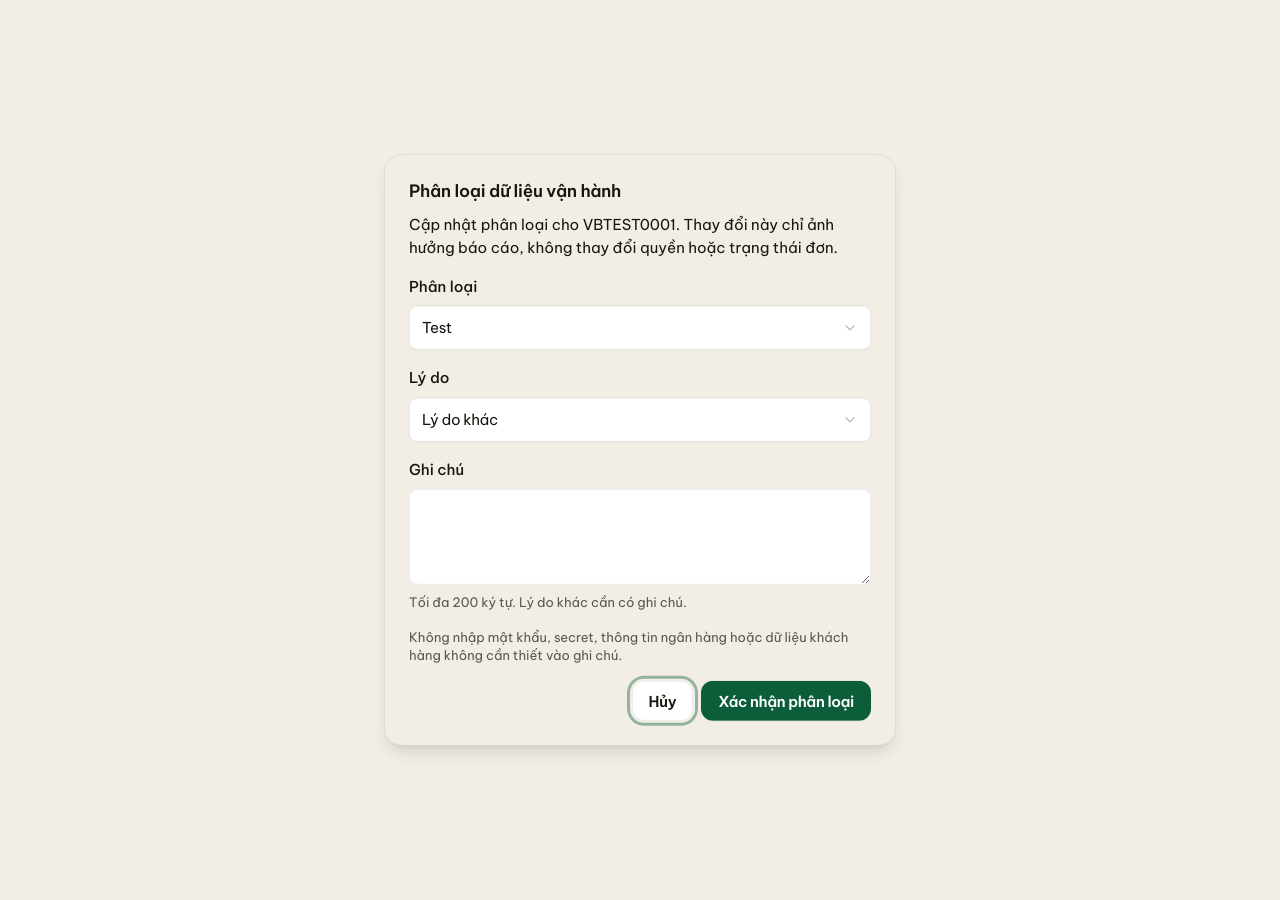
Test: admin operational classification primitives › requires a note for other and announces the validation accessibly
The image size is (1280, 900).
Click the button "Xác nhận phân loại" at (786, 701), box top-left (701, 681), bottom-right (871, 721)
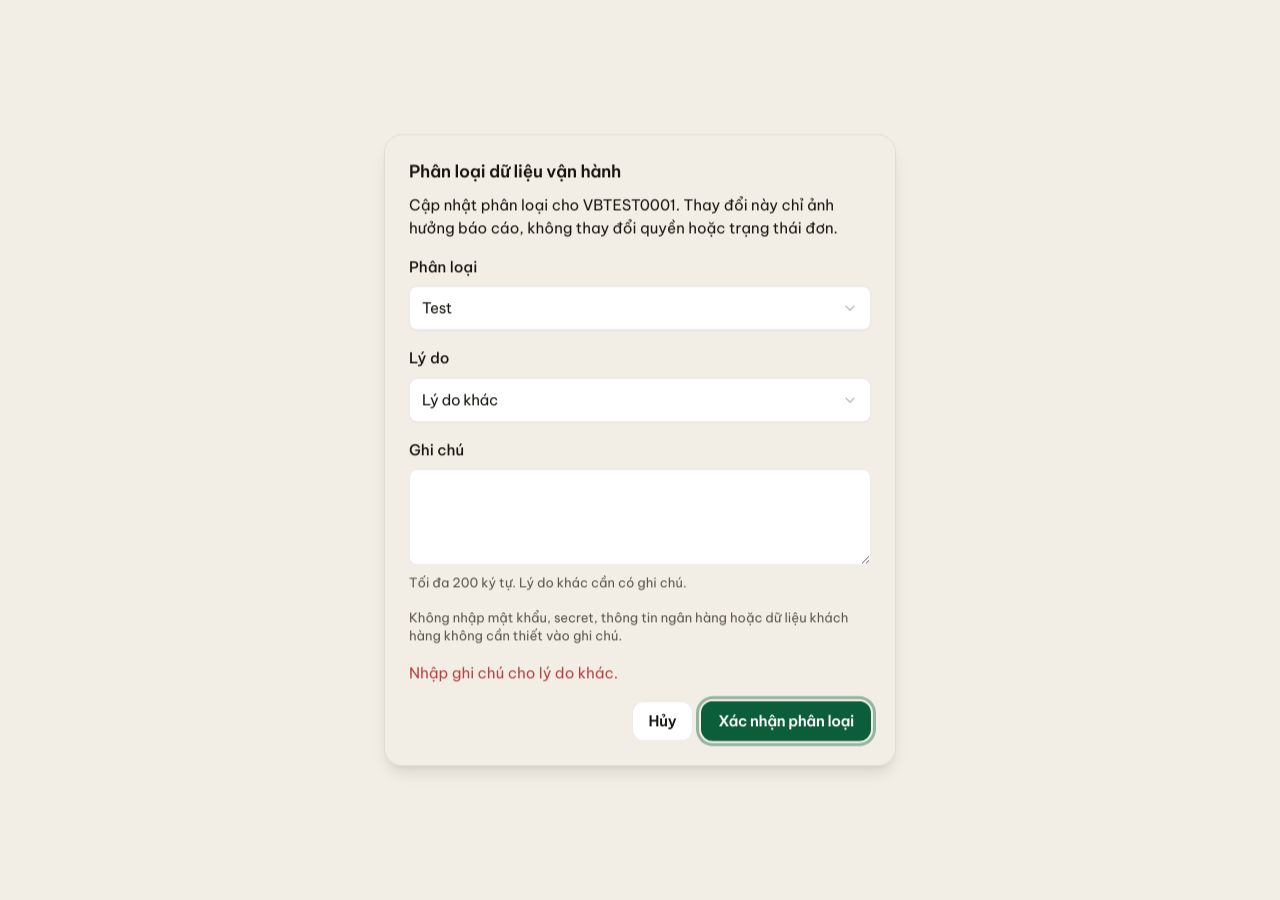
Expected: the text "Không nhập mật khẩu, secret, thông tin ngân hàng hoặc dữ liệu khách hàng không cần thiết vào ghi chú." is shown, top-left (409, 609), bottom-right (848, 644)
Now the message shows "Nhập ghi chú", box top-left (409, 664), bottom-right (618, 682)
